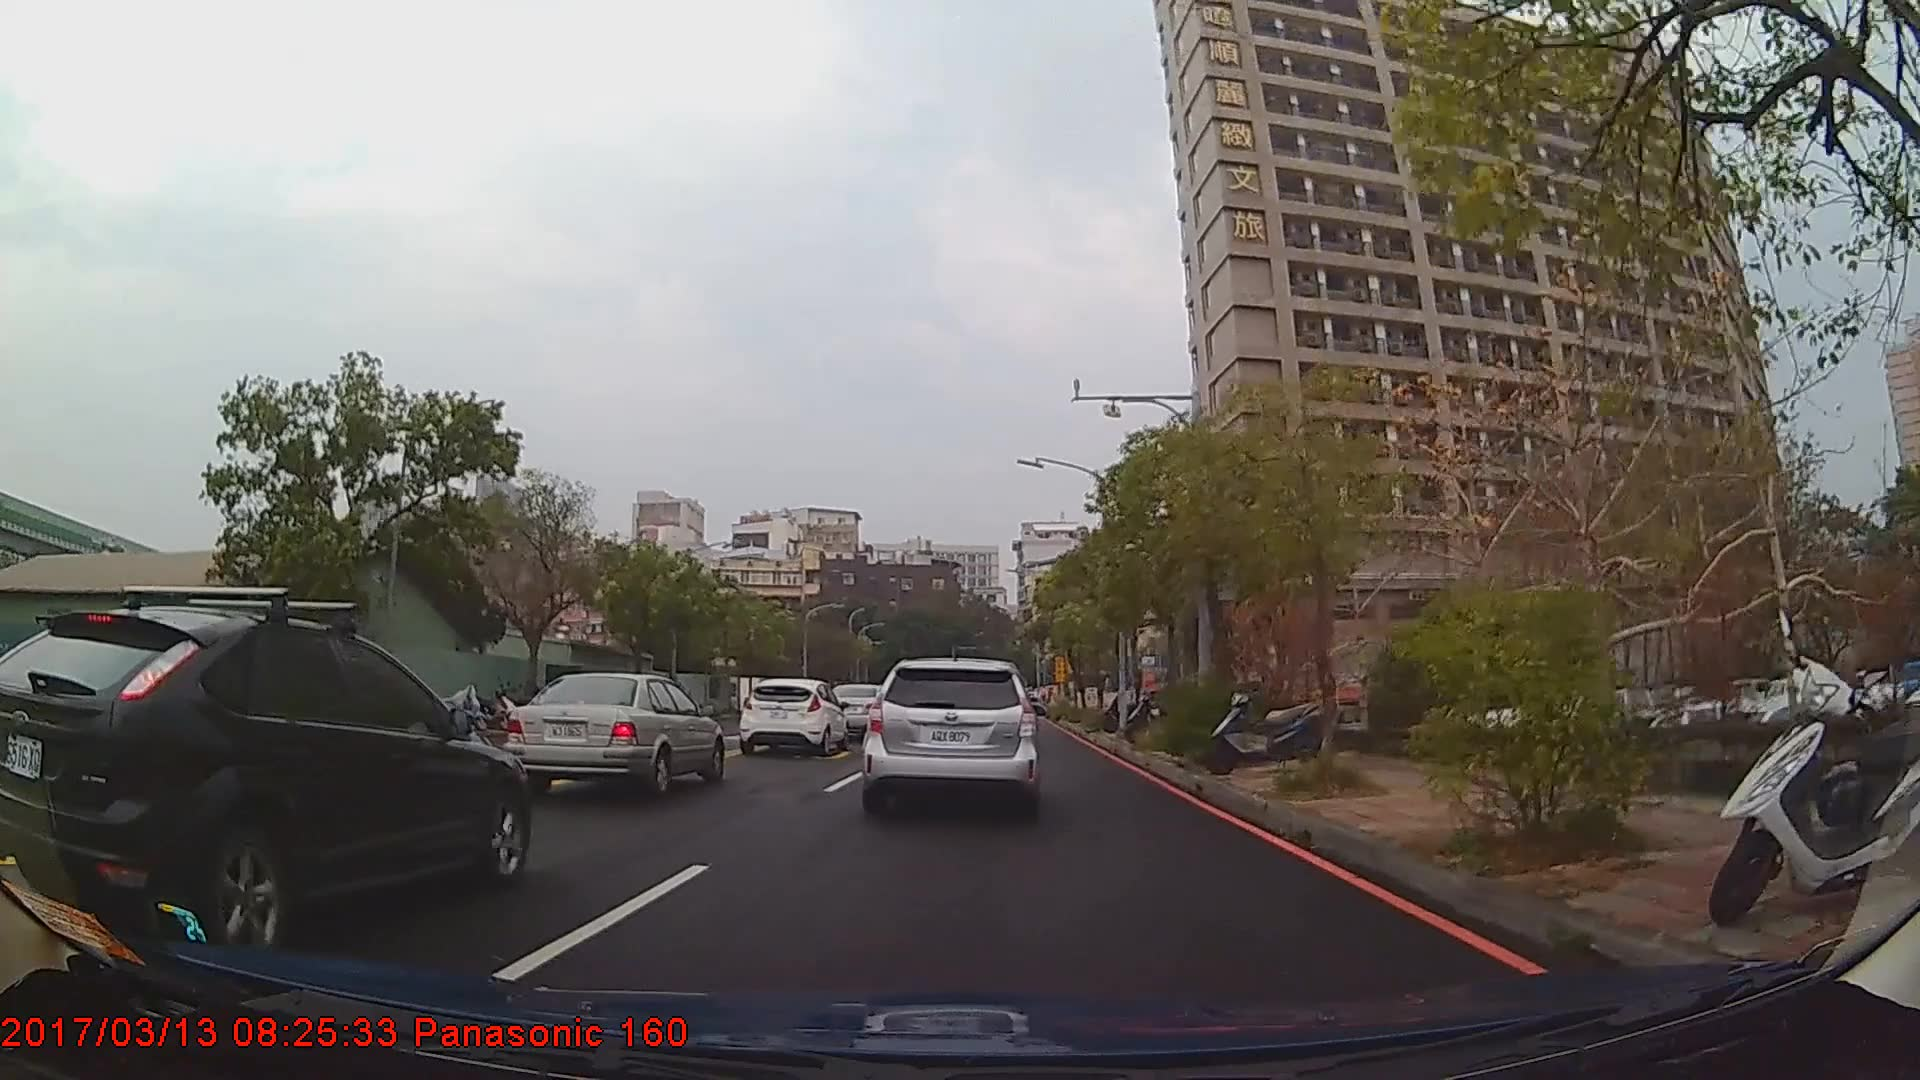vehicle: (0, 603, 531, 957), (861, 658, 1040, 818), (502, 671, 724, 799), (737, 679, 848, 757)
